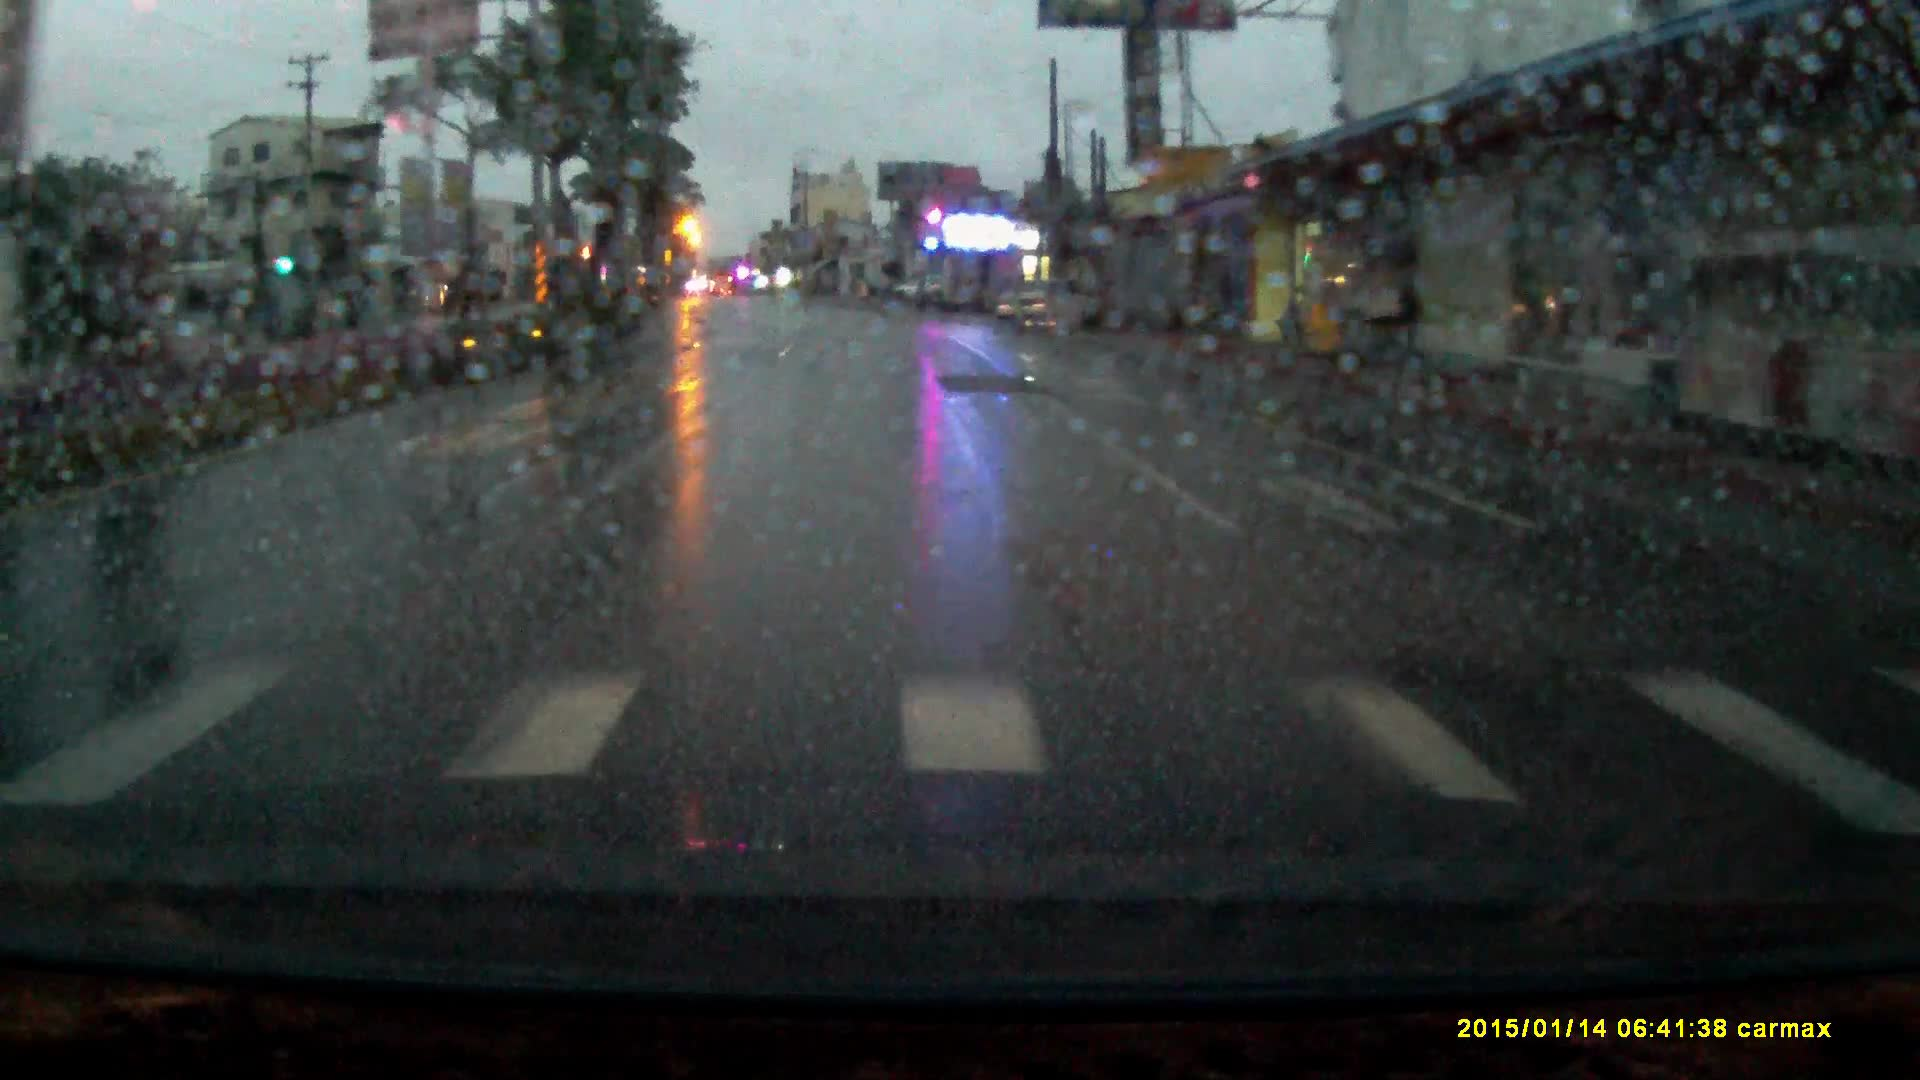vehicle: (1000, 286, 1087, 335), (893, 280, 945, 309)
